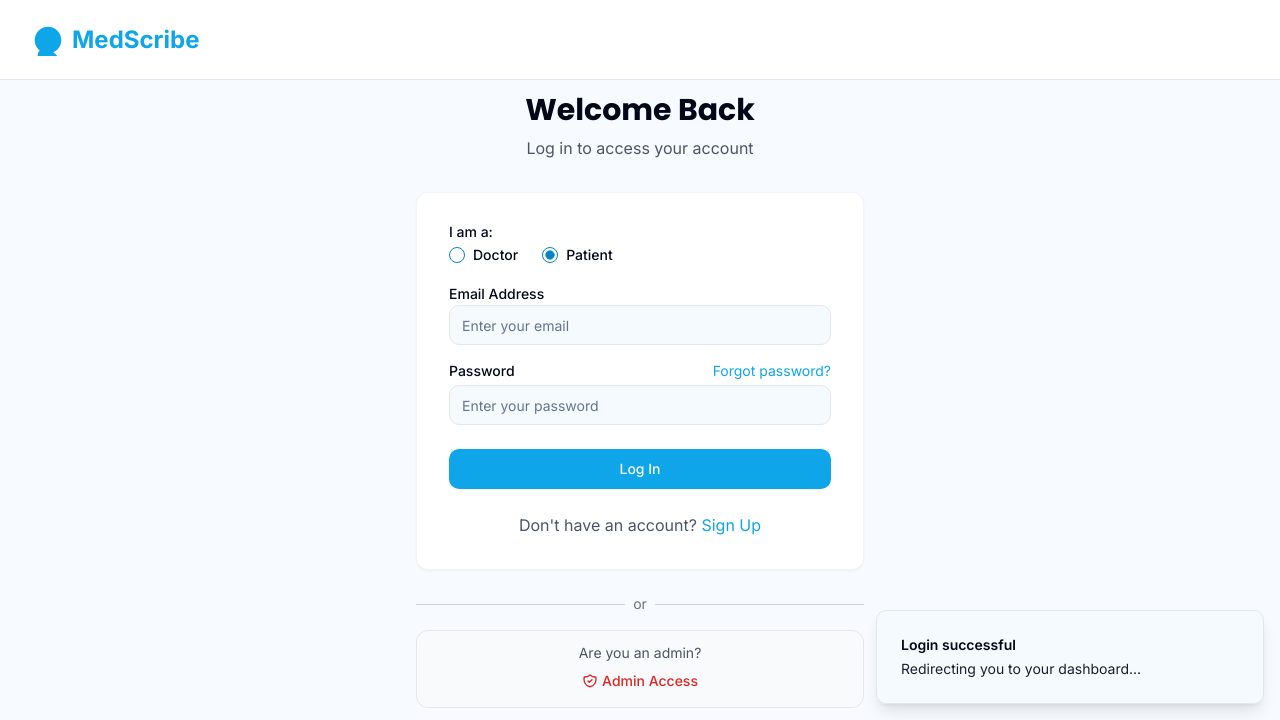
Login Component › Failed Login › should handle network errors gracefully
This screenshot has width=1280, height=720.
Type "test@test.com" into the field labelled "Email Address" at (640, 325), box [449,305,831,345]
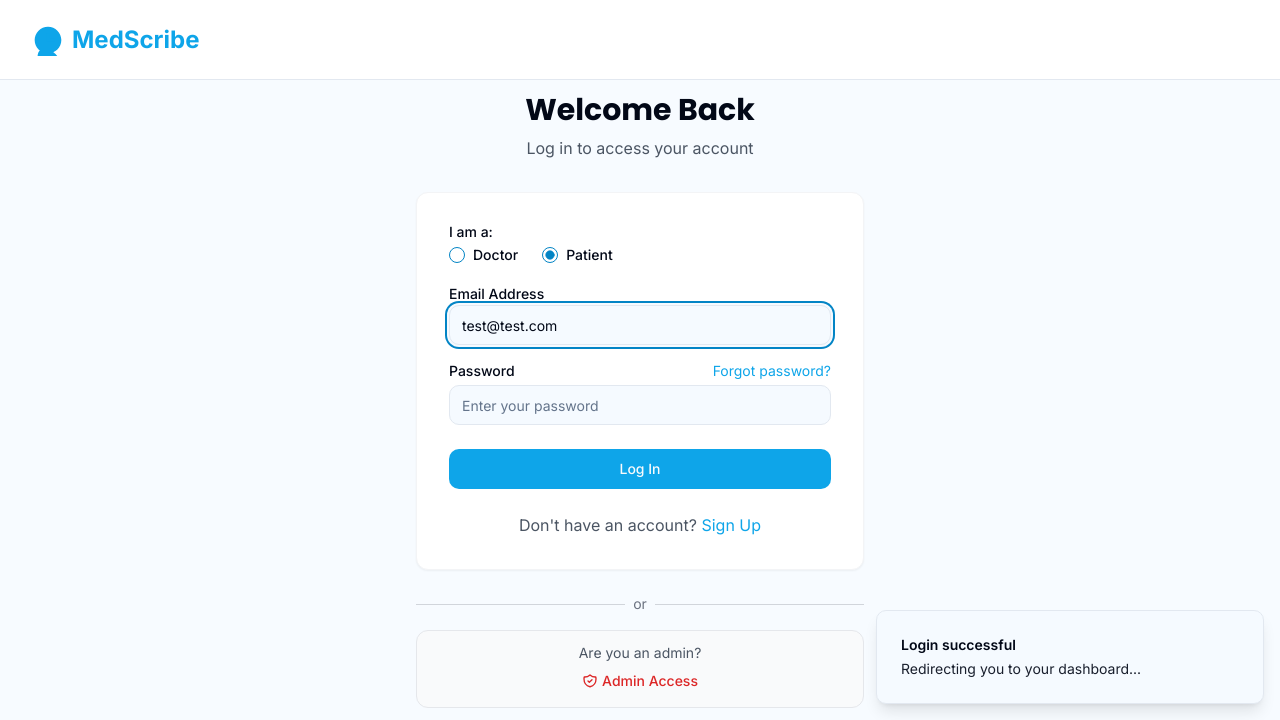
Type "password123" into the password field labelled "Password" at (640, 405), box [449,385,831,425]
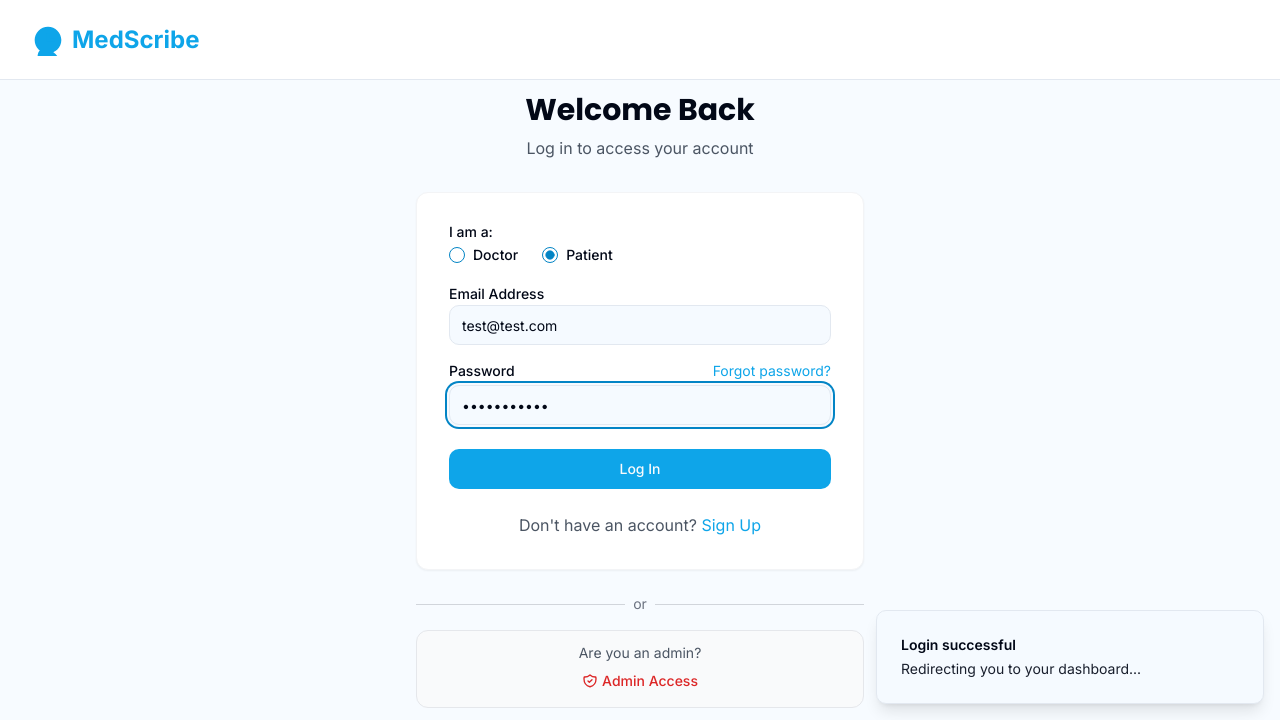
Click the button "Log In" at (640, 469), box [449,449,831,489]
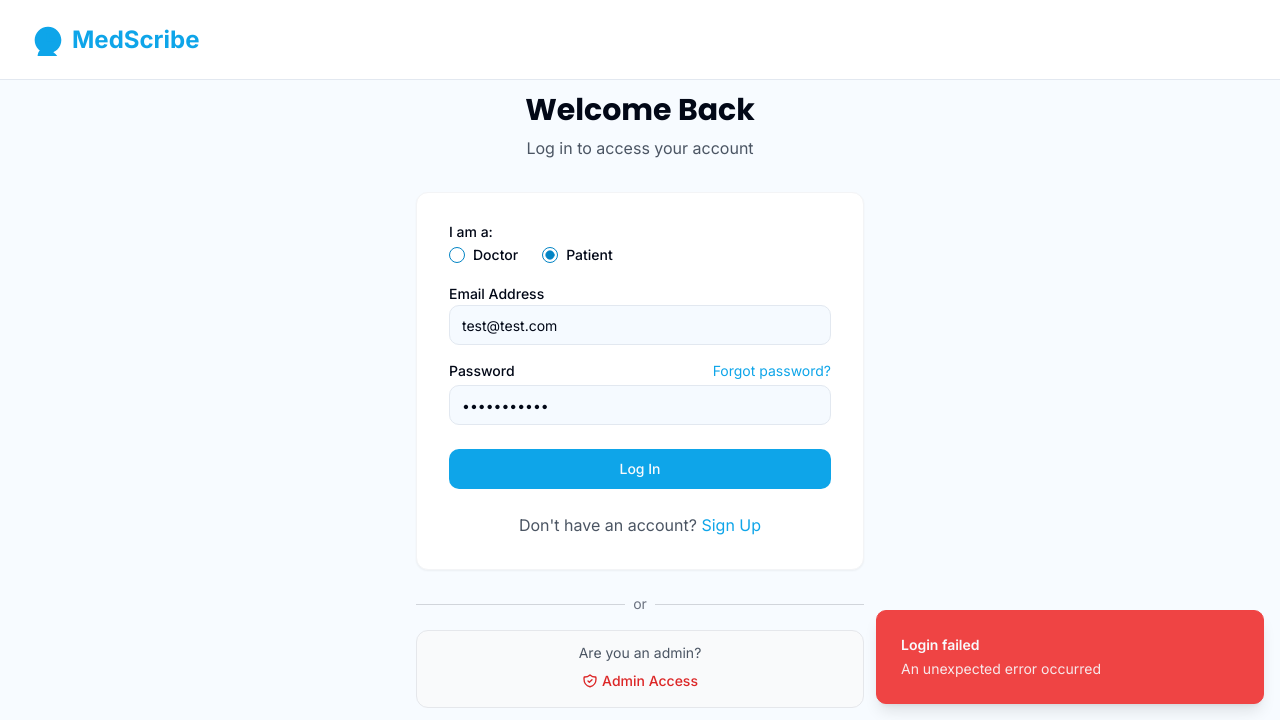
Now the text "Login failed" is shown, box [901,636,980,653]
